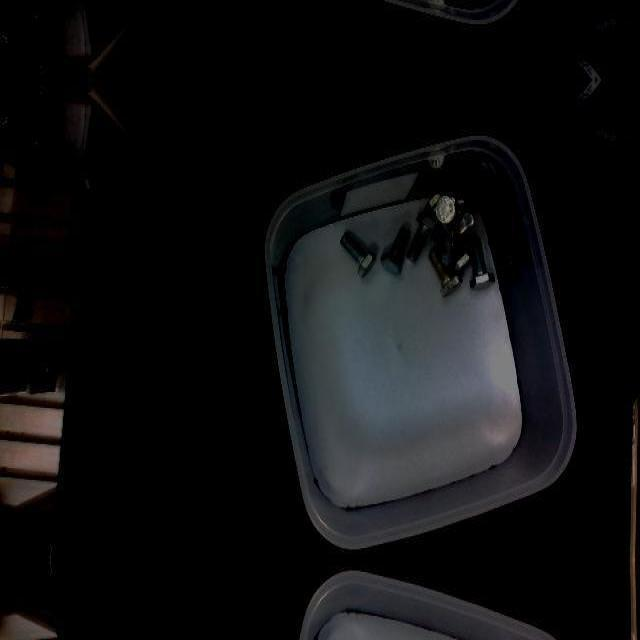screw: (340, 231, 377, 277), (406, 212, 438, 262), (380, 226, 410, 276), (436, 231, 476, 265), (435, 191, 465, 225)
